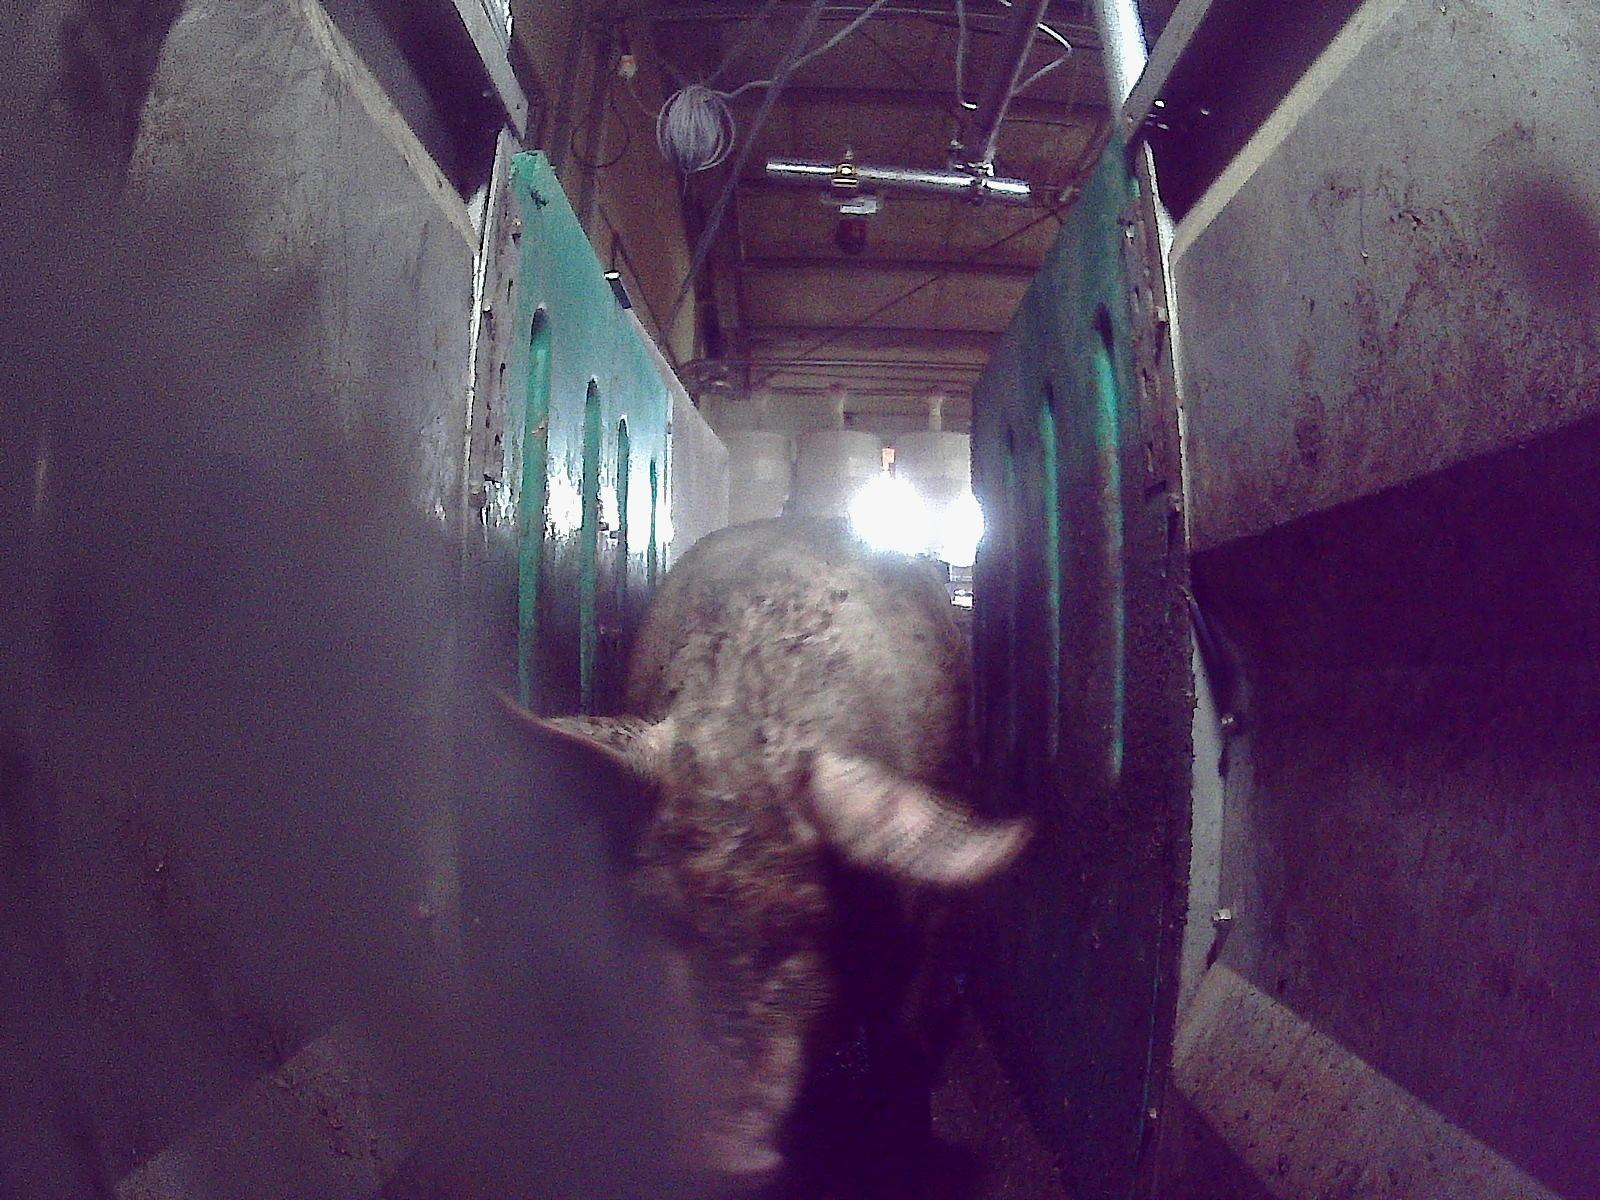Face: (616, 719, 846, 1187)
